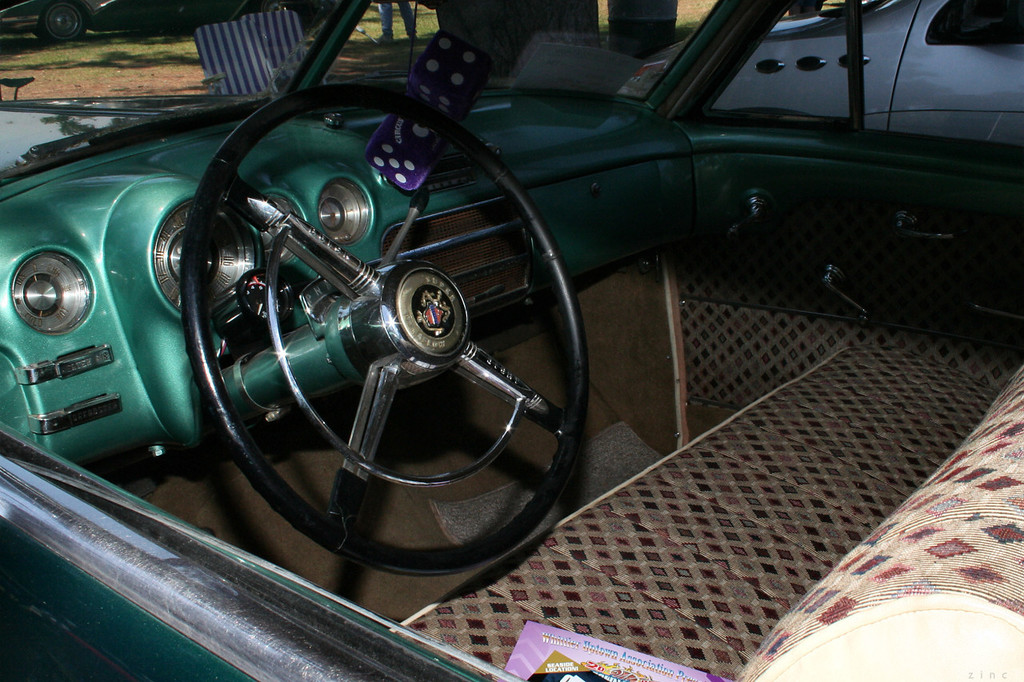Car: (0, 0, 1023, 681), (620, 0, 1023, 145)
